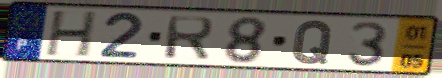2: (98, 10, 146, 63)
3: (345, 20, 390, 68)
8: (222, 15, 269, 65)
H: (43, 10, 101, 59)
Q: (289, 19, 336, 66)
R: (162, 14, 217, 62)
